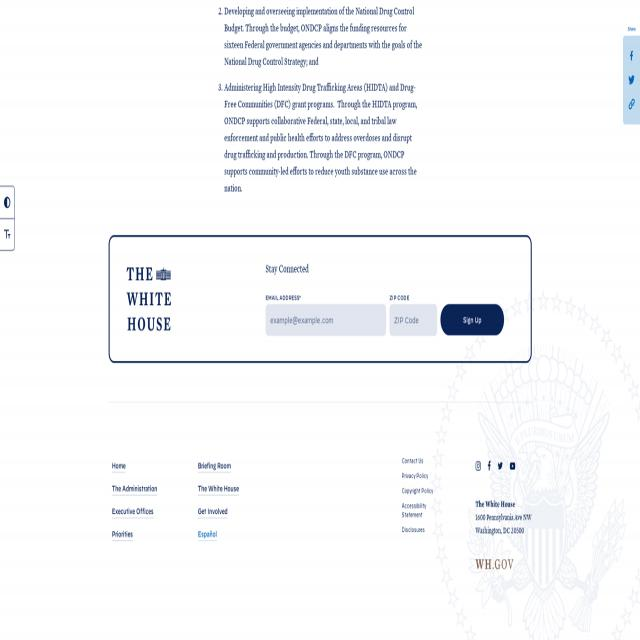button: (126, 267, 171, 331), (440, 304, 504, 335), (0, 218, 14, 248), (0, 188, 14, 217), (475, 560, 513, 570), (628, 74, 635, 86), (628, 98, 634, 110), (497, 461, 503, 471), (475, 461, 481, 471), (629, 52, 634, 62), (510, 462, 516, 470), (487, 461, 491, 471)
field: (266, 304, 386, 336), (389, 304, 437, 336)
